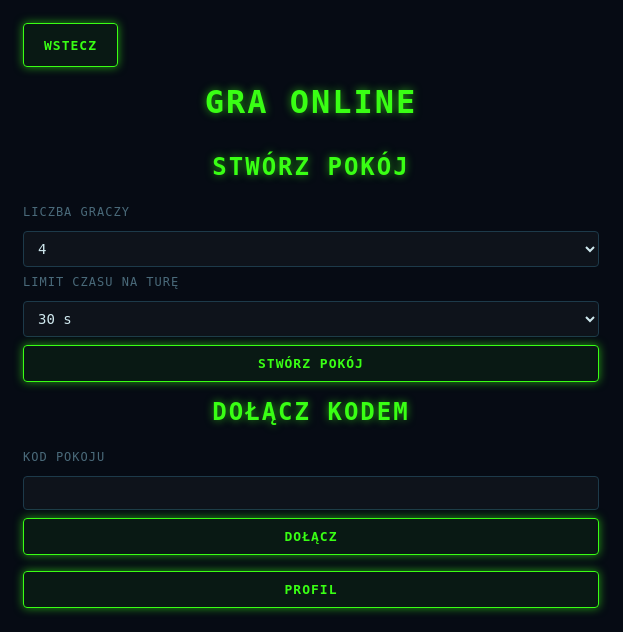
OnlineMenuScreen › shows a pending label on Create and disables both buttons while creating a room
The image size is (623, 632).
Click the button "Stwórz pokój" at x=311, y=364, box top-left (23, 345), bottom-right (599, 382)
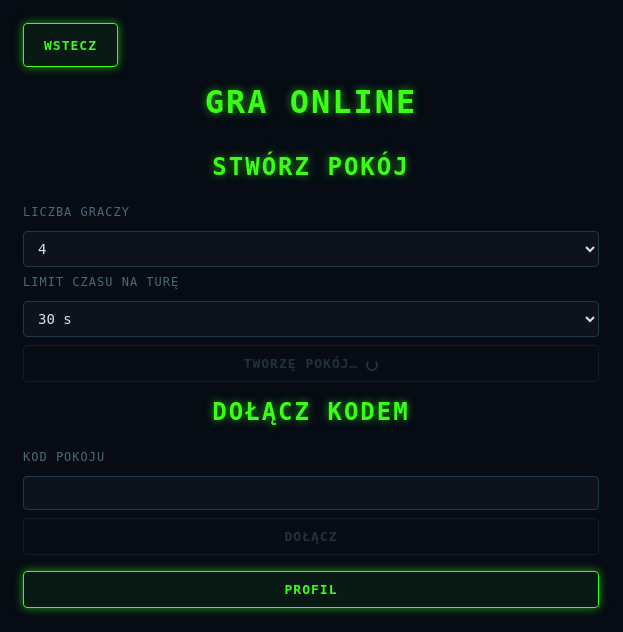
Result: the button "Tworzę pokój…" is disabled at top-left (23, 345), bottom-right (599, 382)
Result: the button "Dołącz" is disabled at top-left (23, 518), bottom-right (599, 555)
